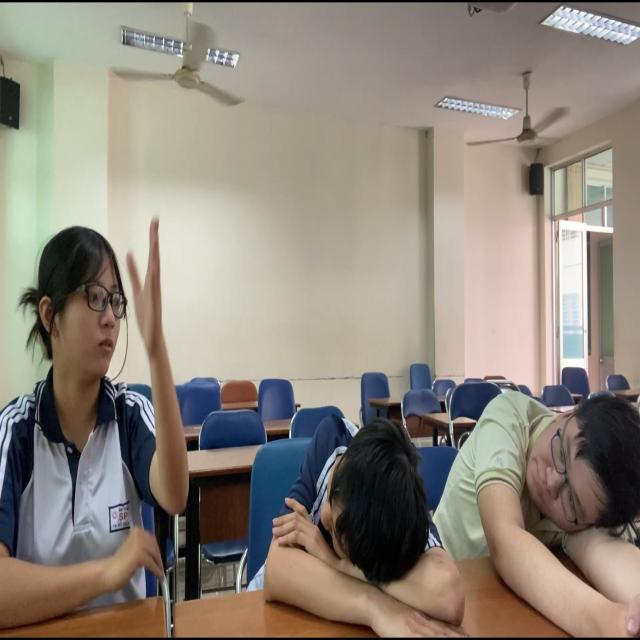raise_hand: (1, 167, 200, 625)
sleep: (229, 398, 471, 640), (431, 374, 640, 640)
